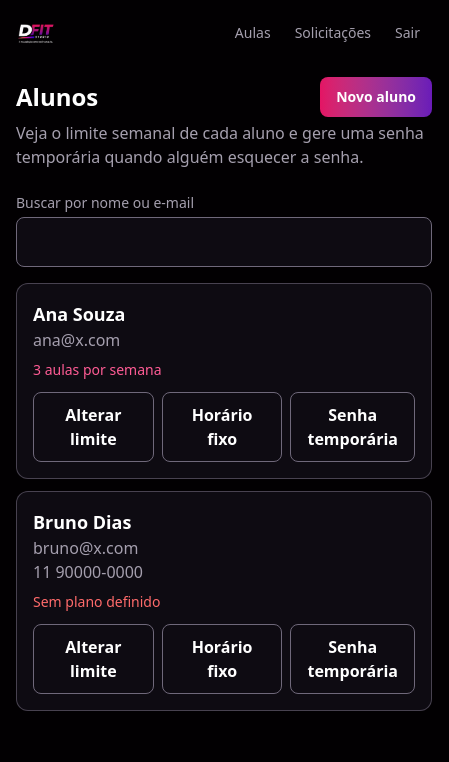
Test: staff students › changes a weekly limit
Expected: the text "Bruno Dias" is shown, [33,510,131,534]
What coordinates should you click on to do the following:
click the button "Alterar limite" below "Bruno Dias"
I would click on:
 (93, 659)
Its box is [33,624,154,694].
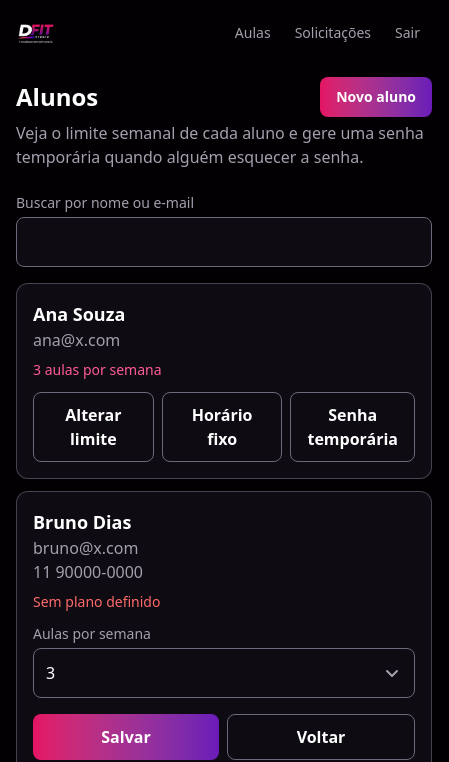
What coordinates should you click on to do the following:
click the dropdown named "Aulas por semana"
I would click on:
 (51, 673)
Its box is [33,648,415,698].
(page scrolled)
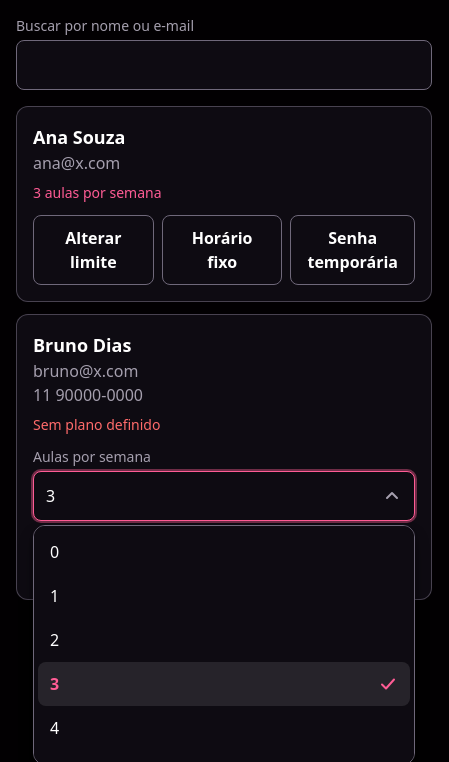
What coordinates should you click on to do the following:
click the option "2"
I would click on:
 (55, 640)
Its box is [50,629,59,651].
(page scrolled)
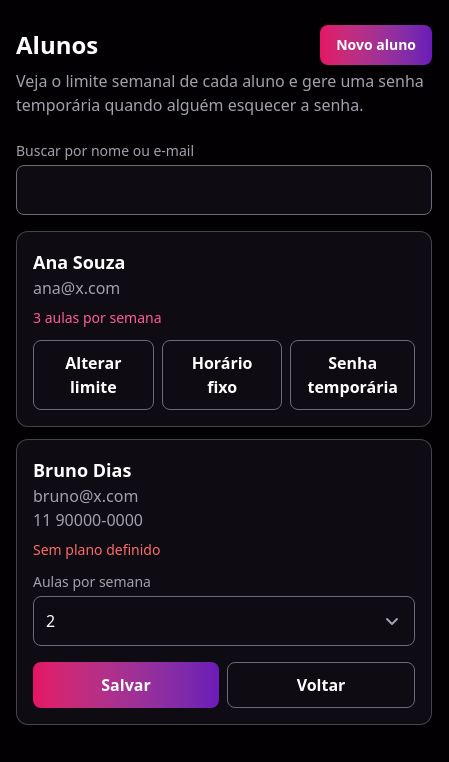
What coordinates should you click on to do the following:
click the button "Salvar"
I would click on:
 (126, 685)
Its box is [33,662,219,708].
(page scrolled)
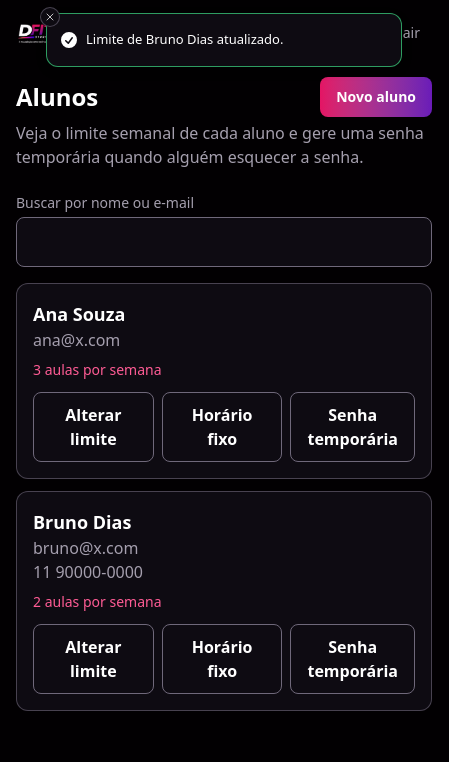
Now the text "2 aulas por semana" is shown, box [33,592,162,611]
Now the text "Limite de Bruno Dias atualizado." is shown, box [86,30,283,50]
